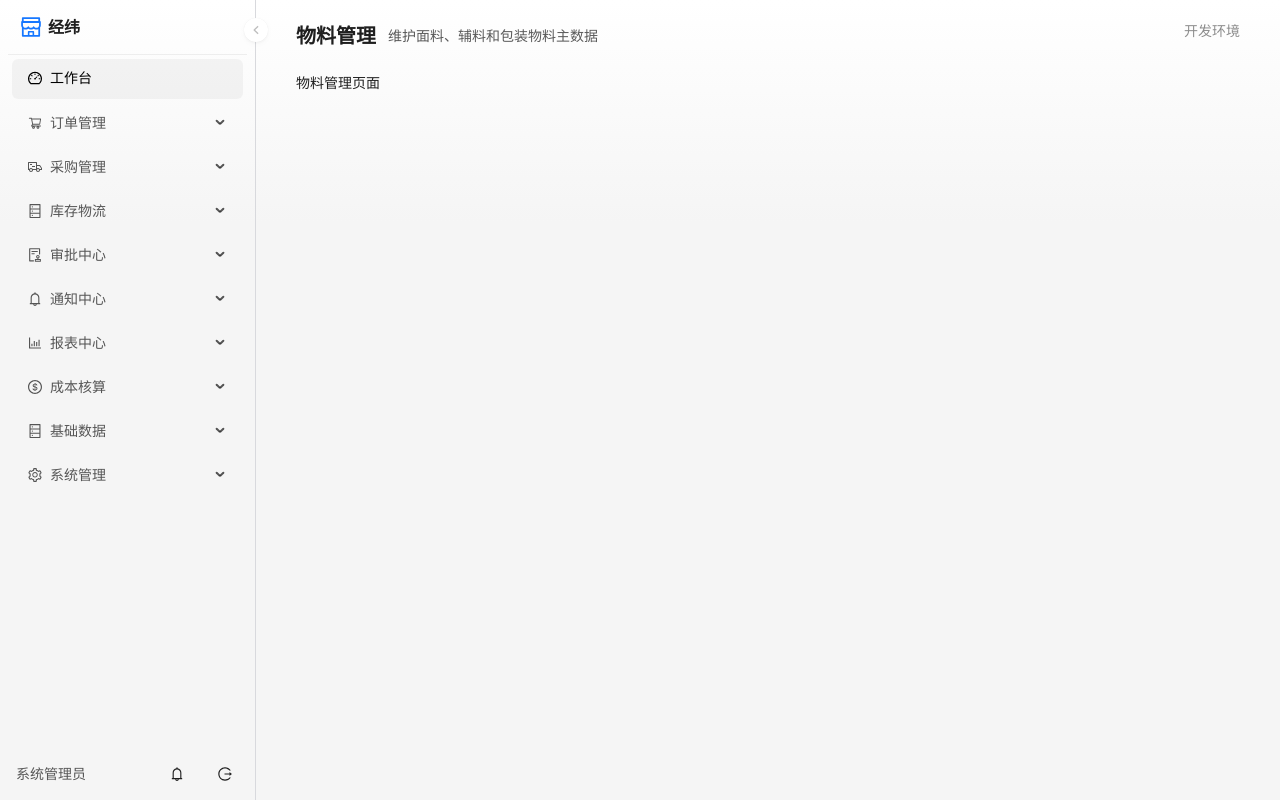
Test: DashboardLayout › shows material and category menus from fallback when backend menu tree is empty
Click the menu item "基础数据" at (67, 430), box [28, 422, 106, 439]
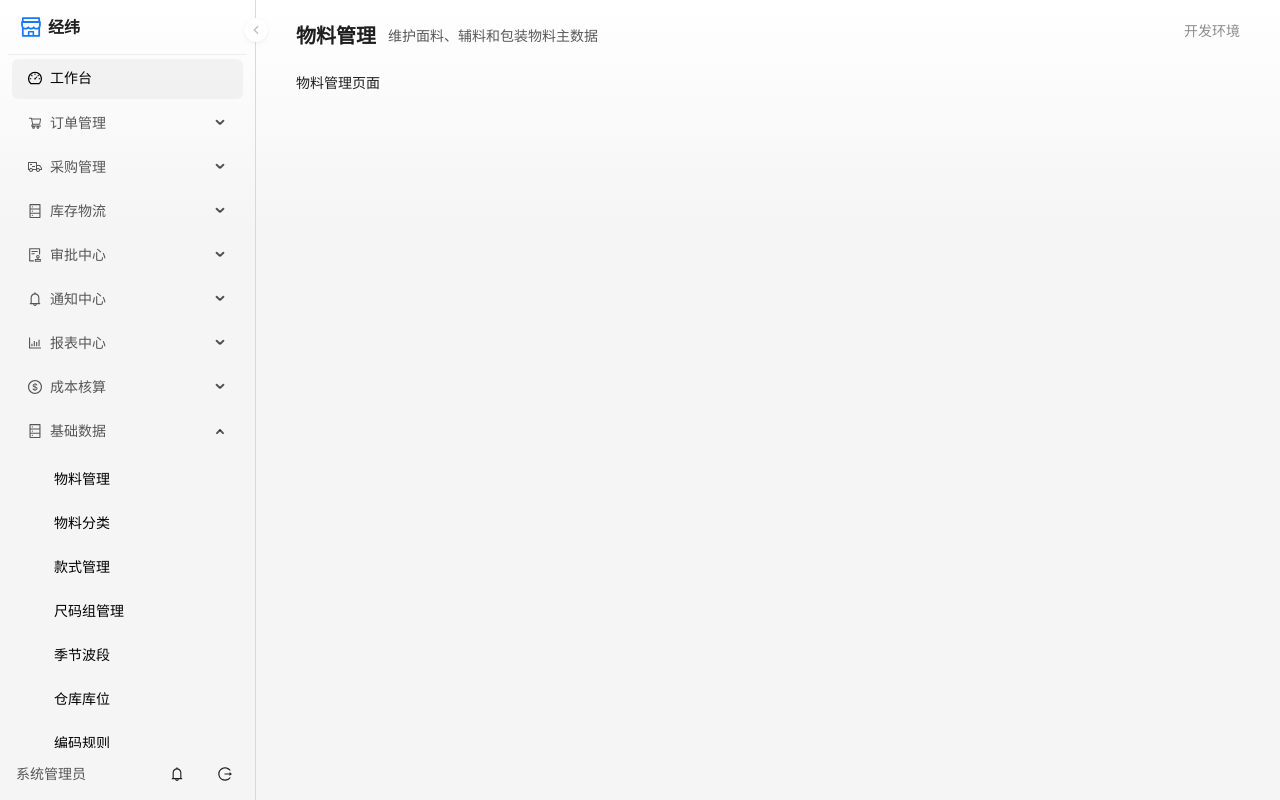
Check: the text "物料管理页面" is shown, box [296, 74, 380, 91]
Check: the text "物料管理" is shown 2 times, box [54, 470, 110, 487]; [296, 20, 376, 52]
Check: the text "物料分类" is shown, box [54, 514, 110, 531]
